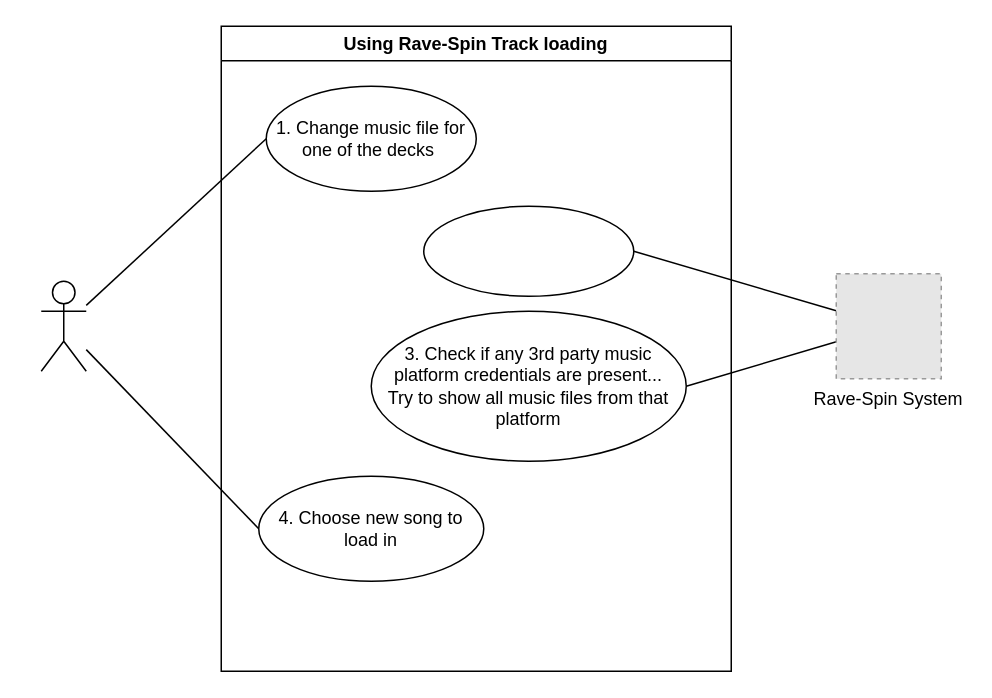
This 992x698 diagram has some shape labels left out. Grey dashed boxes stand in for pictures. Each missing label, with the centre of its shape:
2. Find all local music files: the point at 528,250
DJ / User: the point at 63,325
